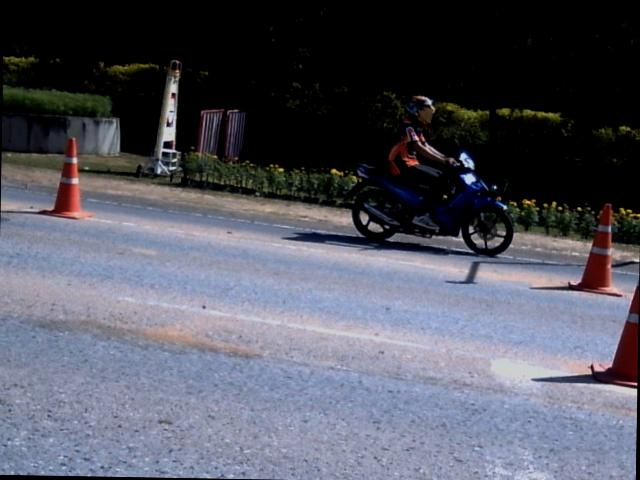helmet: (405, 94, 435, 127)
motor: (345, 145, 511, 255)
person: (385, 94, 456, 208), (412, 211, 436, 228)
